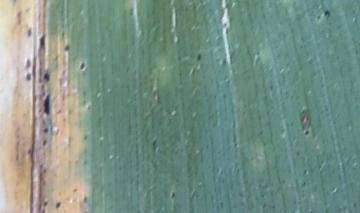tarspot: (40, 93, 54, 116), (37, 32, 48, 52), (40, 70, 53, 83), (22, 70, 35, 83), (78, 60, 88, 75), (194, 51, 205, 63), (22, 59, 35, 69), (167, 191, 178, 201), (302, 127, 312, 138), (322, 8, 331, 19), (41, 125, 50, 136), (41, 198, 50, 209), (41, 137, 49, 149), (61, 43, 71, 52), (55, 200, 63, 211)
